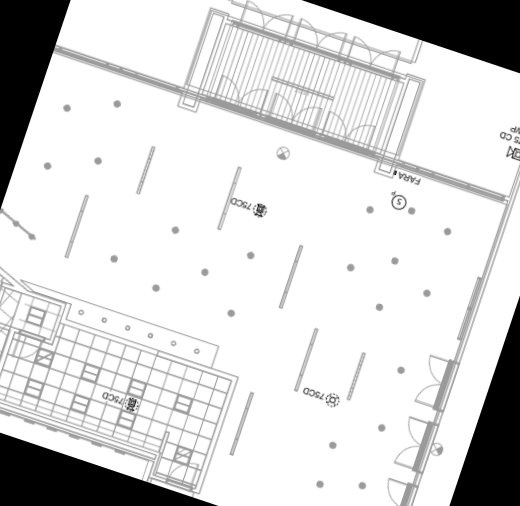double door: (409, 350, 463, 414), (389, 413, 441, 475), (344, 33, 403, 78), (292, 17, 350, 59), (237, 0, 296, 41), (369, 475, 417, 506)
window: (451, 271, 492, 348)
